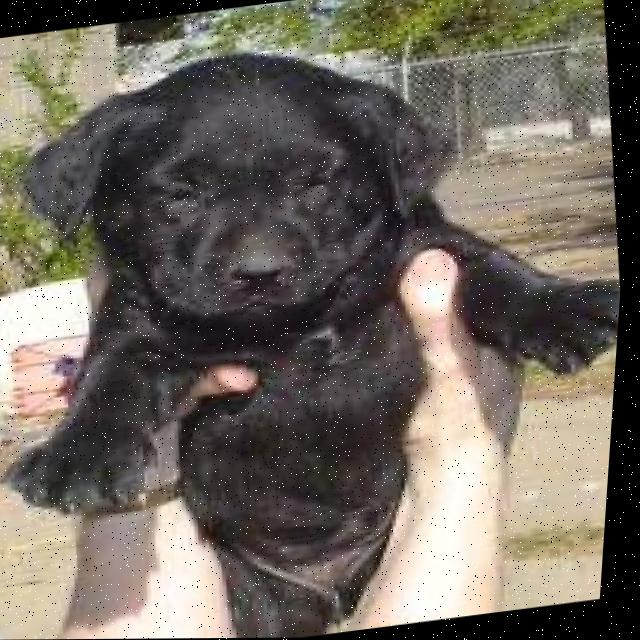dogs: (0, 9, 639, 640)
